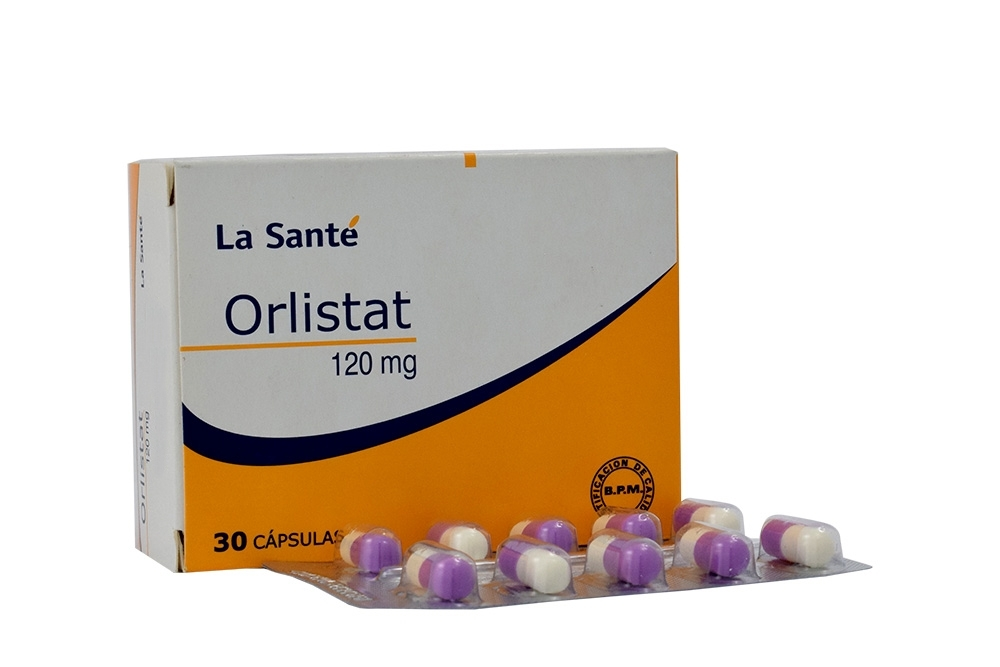LaSante: (180, 159, 679, 578)
